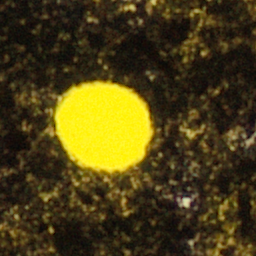air_pores: (52, 81, 153, 175)
cement_matrix: (0, 0, 255, 255), (51, 80, 154, 176), (182, 199, 186, 204)
gravel_crushed_stones: (183, 200, 185, 203)
